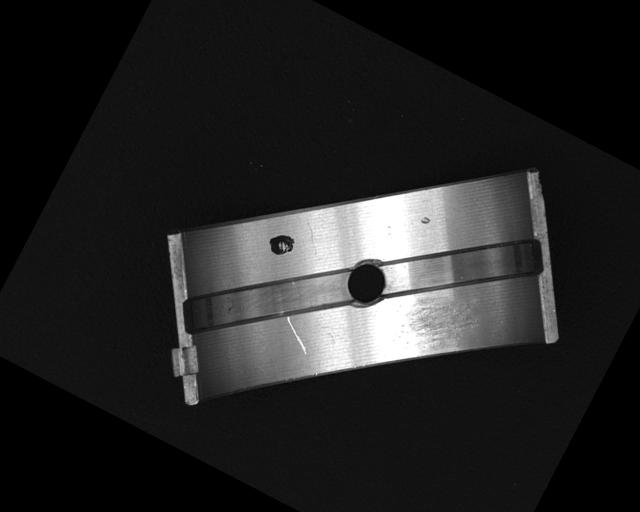blot: (263, 227, 298, 262)
bruise: (418, 214, 431, 226)
gap: (169, 212, 362, 395), (376, 182, 555, 348)
hole: (338, 251, 398, 314)
nick: (274, 314, 320, 356), (293, 217, 329, 258)
scratch: (378, 276, 485, 384)
